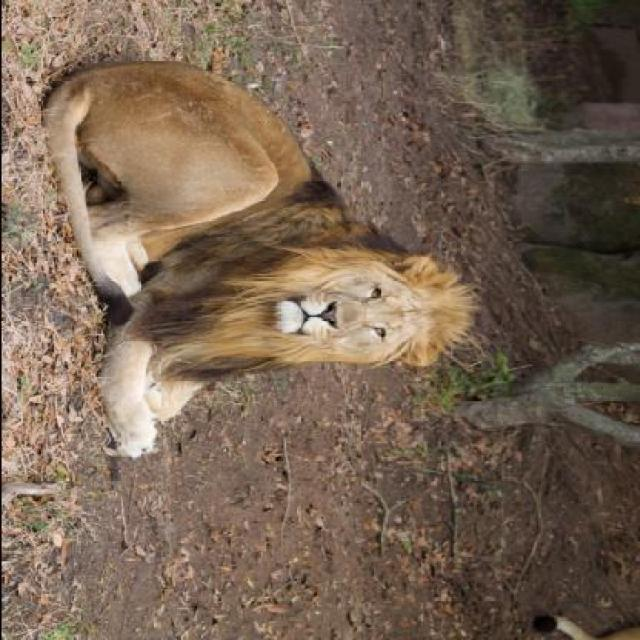Lion: (24, 34, 502, 458)
